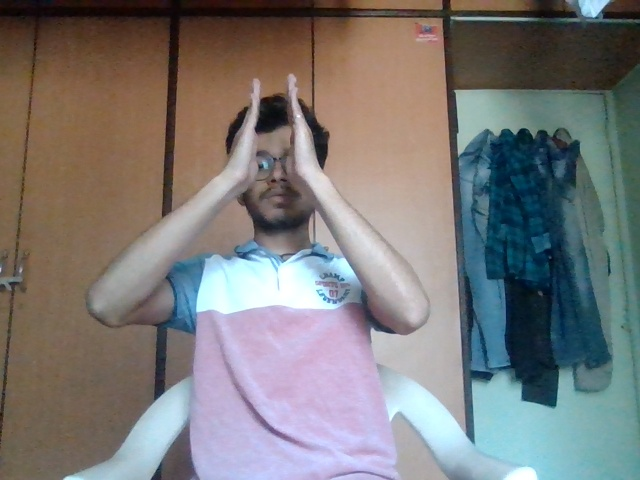morning: (219, 63, 333, 221)
